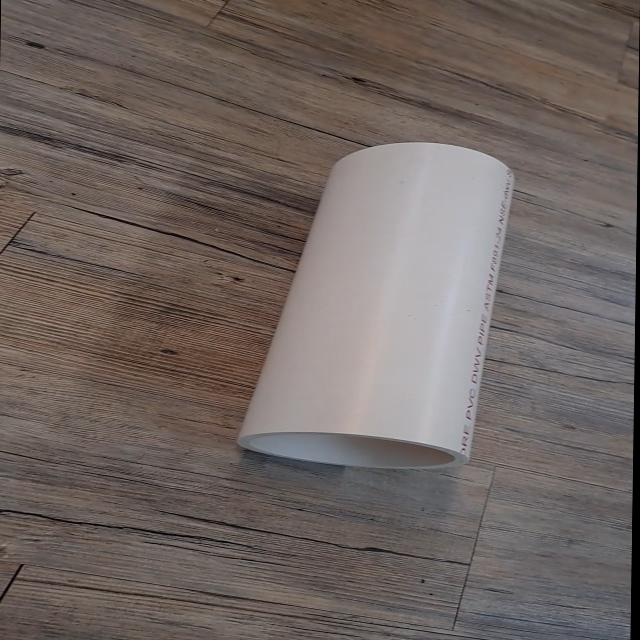CORAL: (217, 137, 522, 476)
